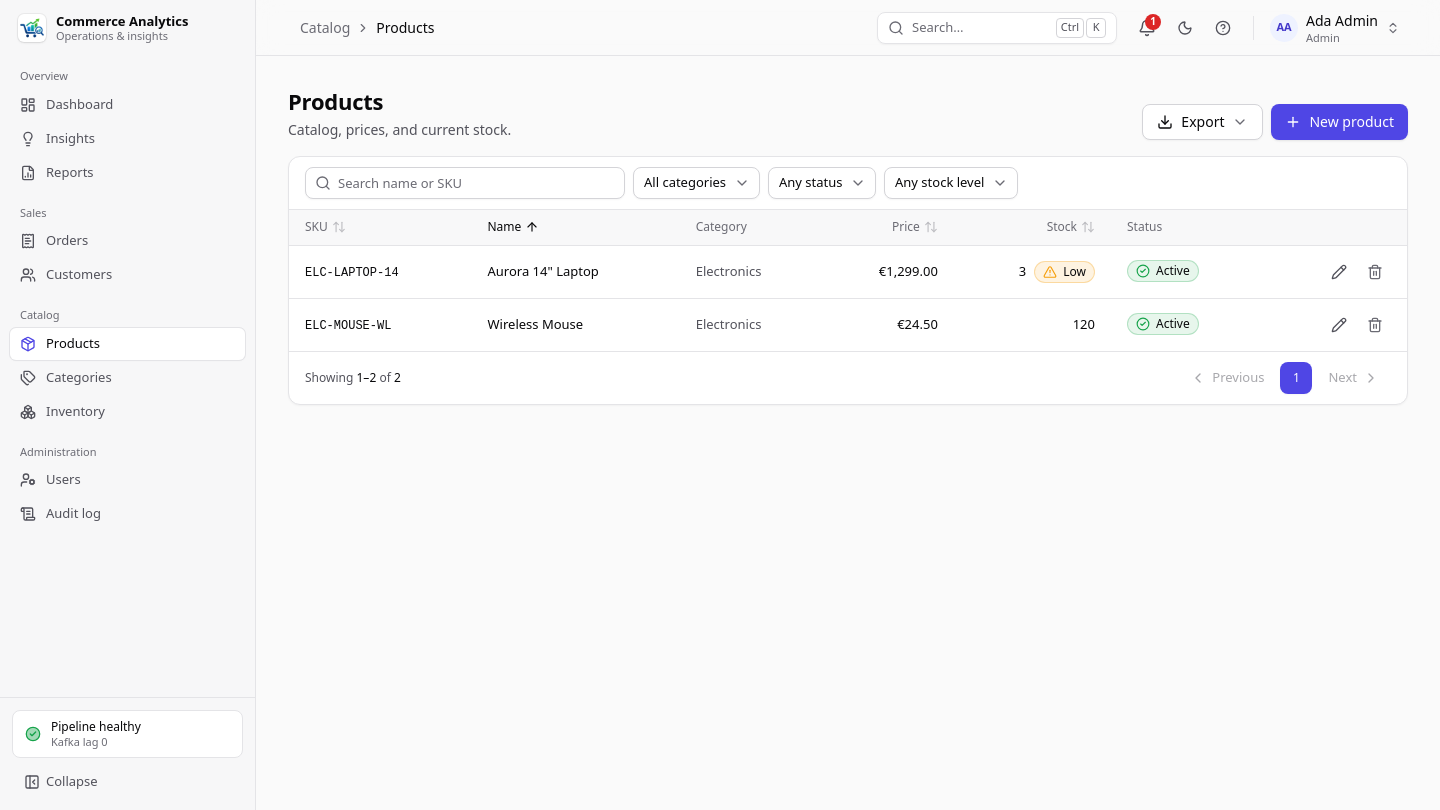
Scenario: export menu › explains why an export was refused
The image size is (1440, 810).
Click the button "Export": (1203, 122) [1142,104,1264,140]
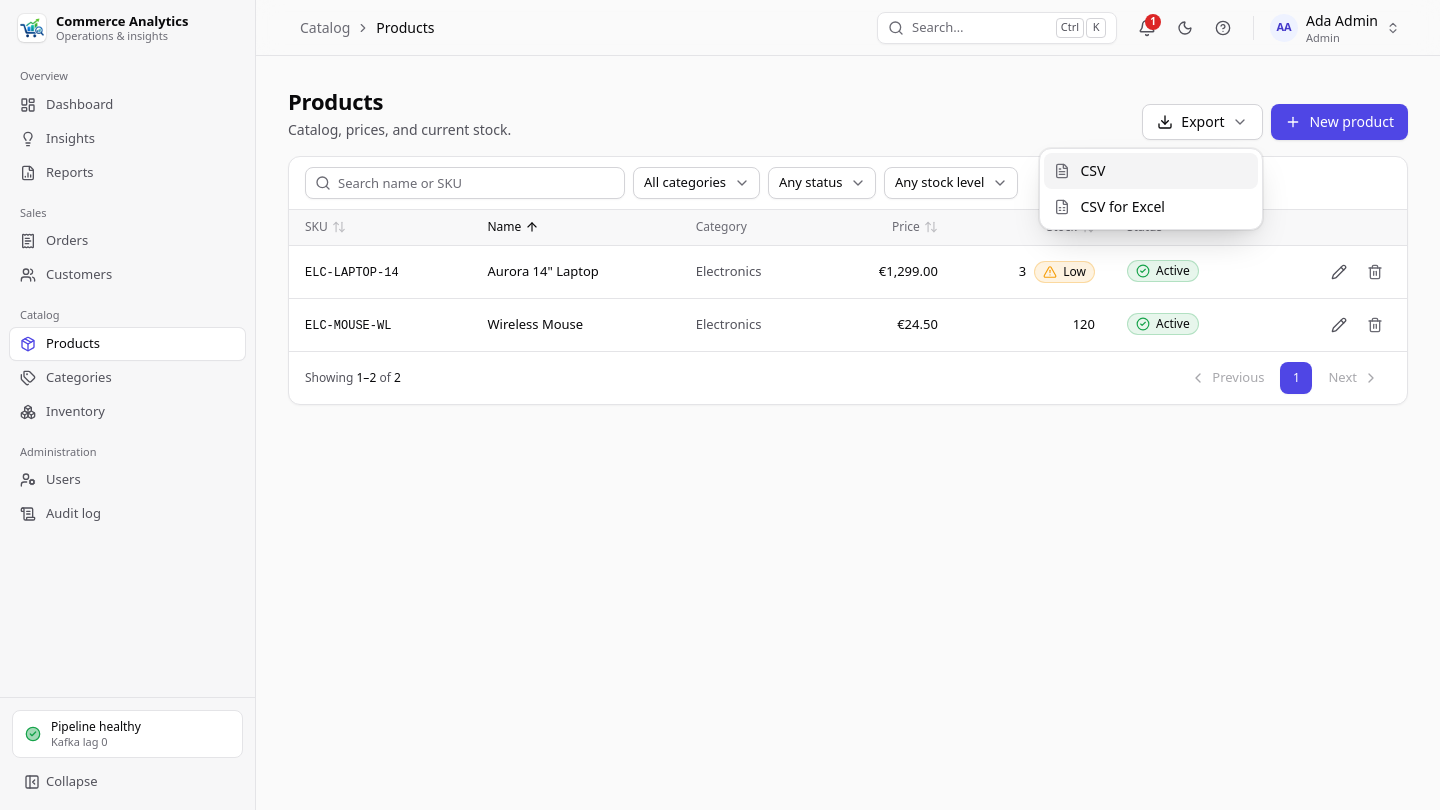
Click the menu item "CSV": (1152, 170) [1044,152,1258,188]
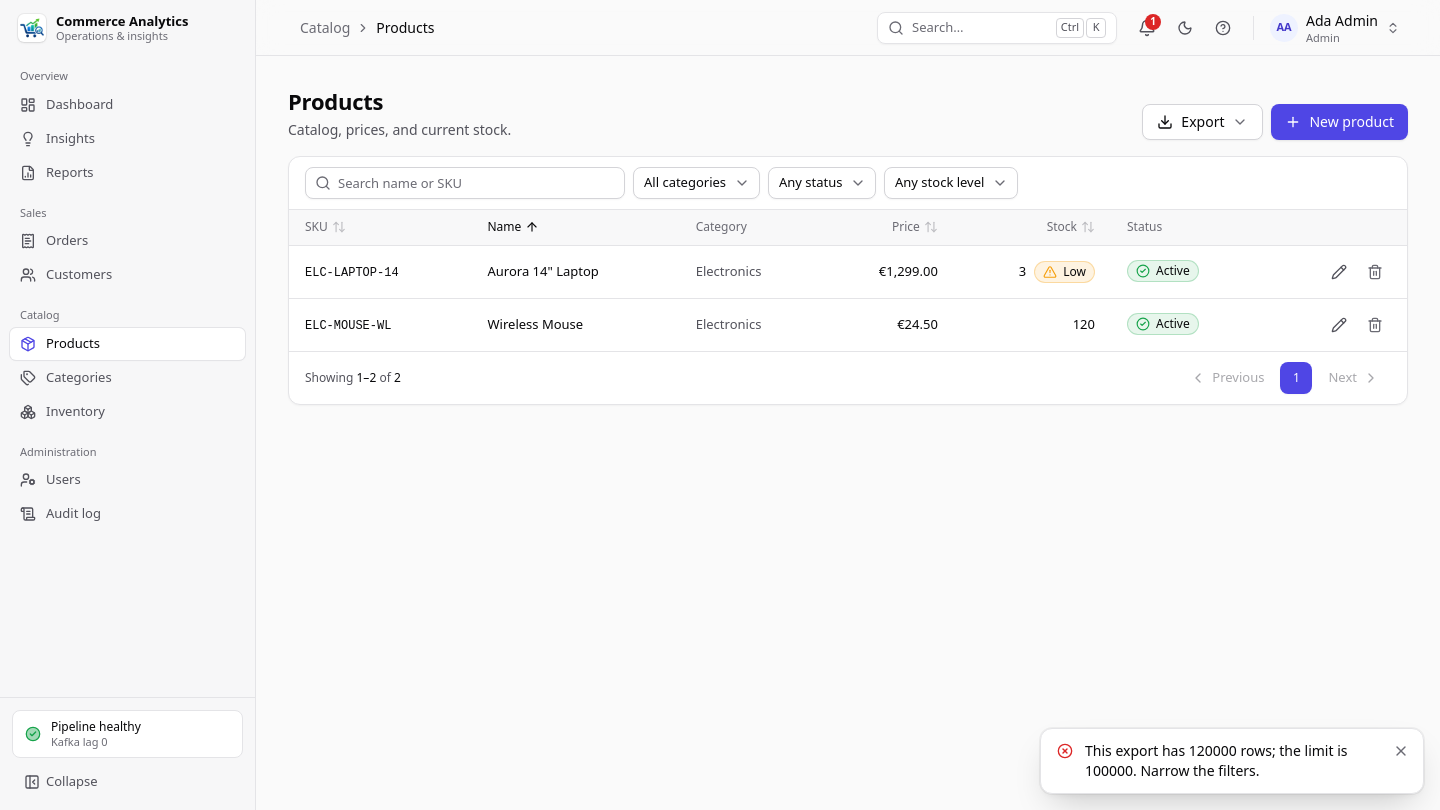
Now the text "the limit is 100000" is shown, box [1085,741,1348,780]
